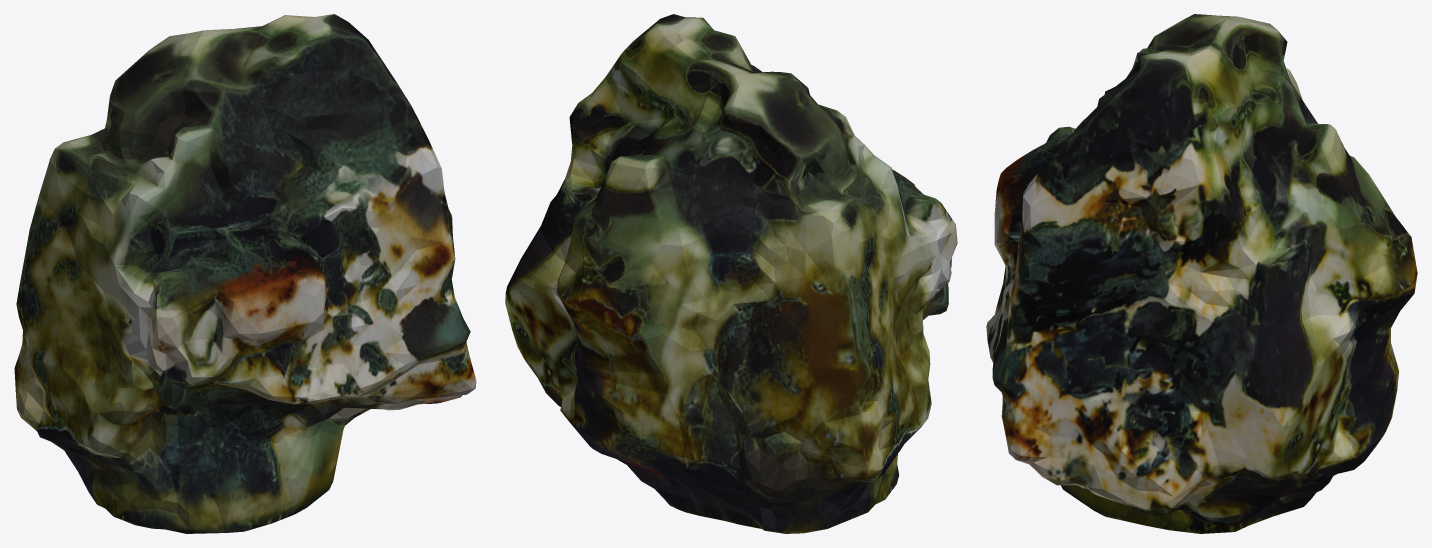
Rendered from amphibole_001.glb.
The picture shows the model from 3 angles, left to right: view 1: azimuth 30°, elevation 25°; view 2: azimuth 150°, elevation 25°; view 3: azimuth 270°, elevation 25°; orthographic projection. The views are drawn at different scales.
Visible parts, largest first — view 1: tripo_node_328a2578-476c-4161-a725-ae9053b340ba; view 2: tripo_node_328a2578-476c-4161-a725-ae9053b340ba; view 3: tripo_node_328a2578-476c-4161-a725-ae9053b340ba.
Part boxes in pixels (box(x1,y1,x2,y2)): tripo_node_328a2578-476c-4161-a725-ae9053b340ba: box(14, 14, 476, 533); tripo_node_328a2578-476c-4161-a725-ae9053b340ba: box(505, 14, 957, 533); tripo_node_328a2578-476c-4161-a725-ae9053b340ba: box(986, 14, 1417, 533).
Bounding box in the file's own units: 0.8465 × 0.9469 × 0.7681.
1 material, 1 textured.
